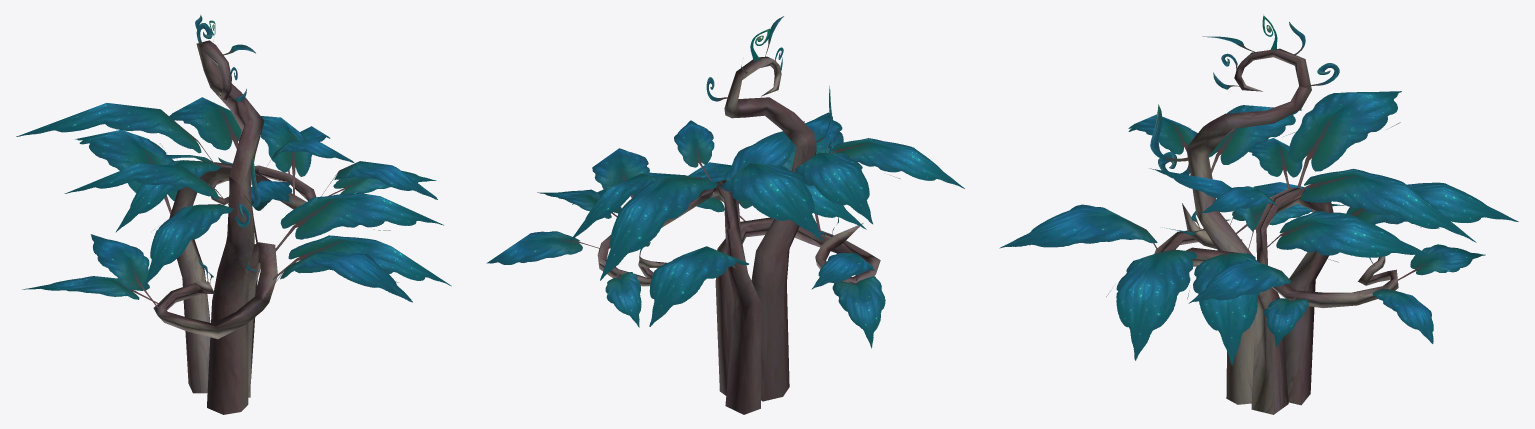
3 views of the same model, side by side, from view 1: azimuth 30°, elevation 25°; view 2: azimuth 150°, elevation 25°; view 3: azimuth 270°, elevation 25° (orthographic). The views are drawn at different scales.
Bounding box in the file's own units: 10.83 × 10.06 × 12.66.
Materials: 1 (1 with a texture image).
